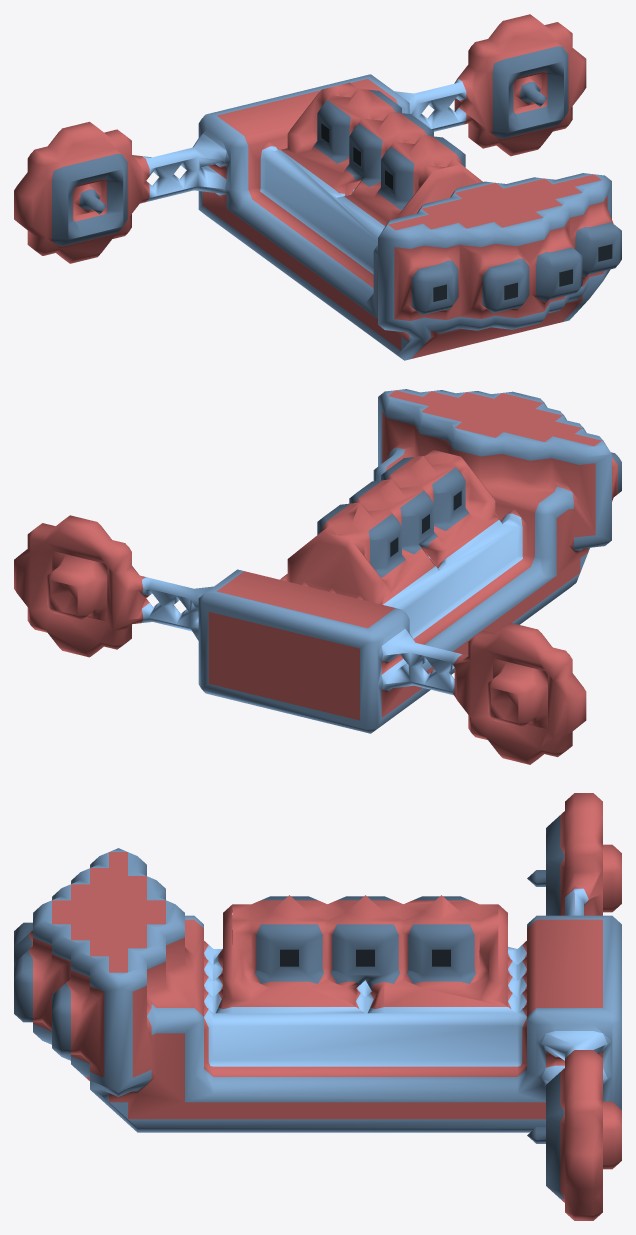
The model's file is usa-1-washington-class.obj.
3 renders of one model, top to bottom at view 1: azimuth 30°, elevation 25°; view 2: azimuth 150°, elevation 25°; view 3: azimuth 270°, elevation 25°, orthographic. The views are drawn at different scales.
Size of the model in its own units: 41 by 11 by 32.
1 material, 1 textured.
